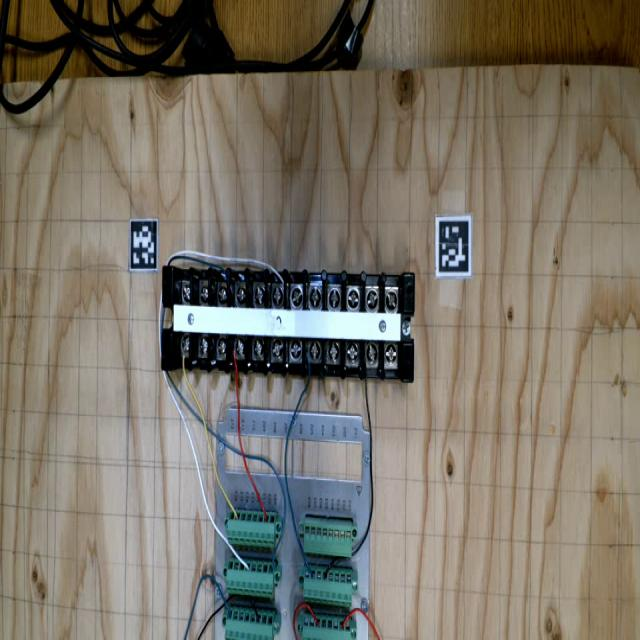Phillips_Block: (158, 262, 418, 382)
Terminal_2: (300, 564, 355, 607), (224, 558, 276, 598), (226, 509, 277, 547), (225, 607, 274, 640), (302, 613, 351, 640)
